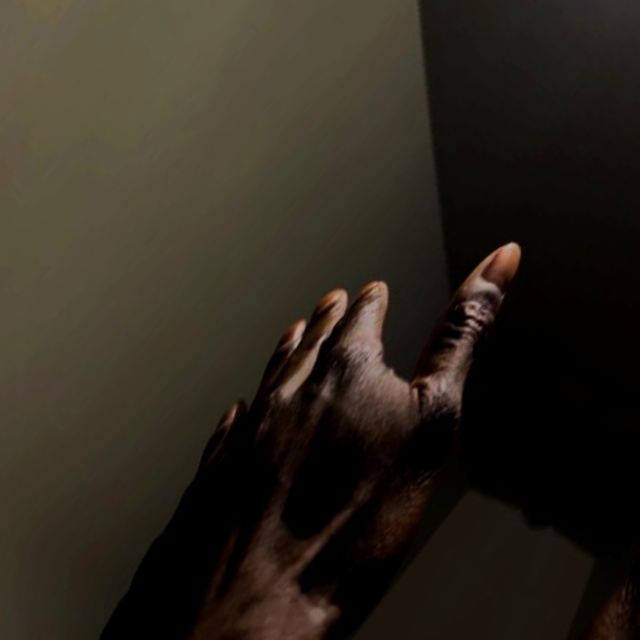Paper: (0, 568, 377, 640)
